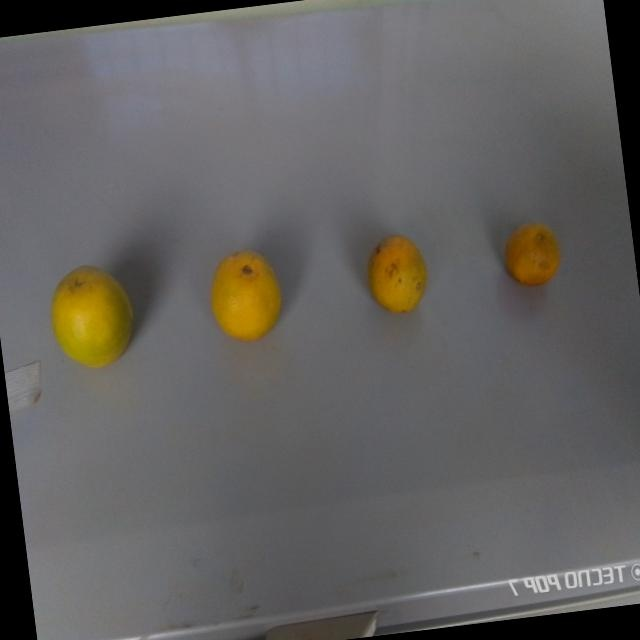agrume: (46, 256, 142, 384), (203, 237, 290, 351), (359, 231, 438, 325), (494, 214, 566, 302)
